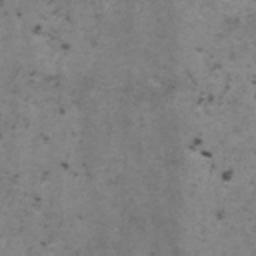Oxide scale of temperature system: (188, 136, 236, 183), (15, 10, 70, 50), (207, 63, 256, 102), (215, 209, 228, 221), (60, 160, 70, 170), (59, 106, 67, 116), (42, 133, 50, 142), (33, 195, 42, 202)
